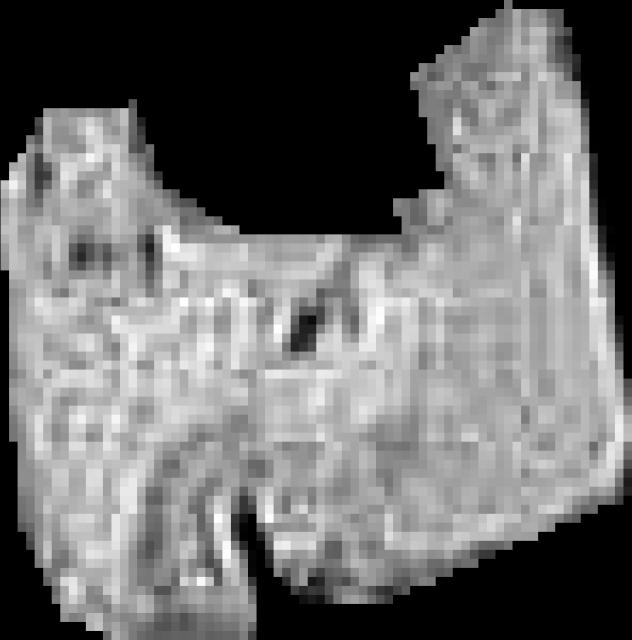tumor_good_chance: (1, 0, 632, 640)
